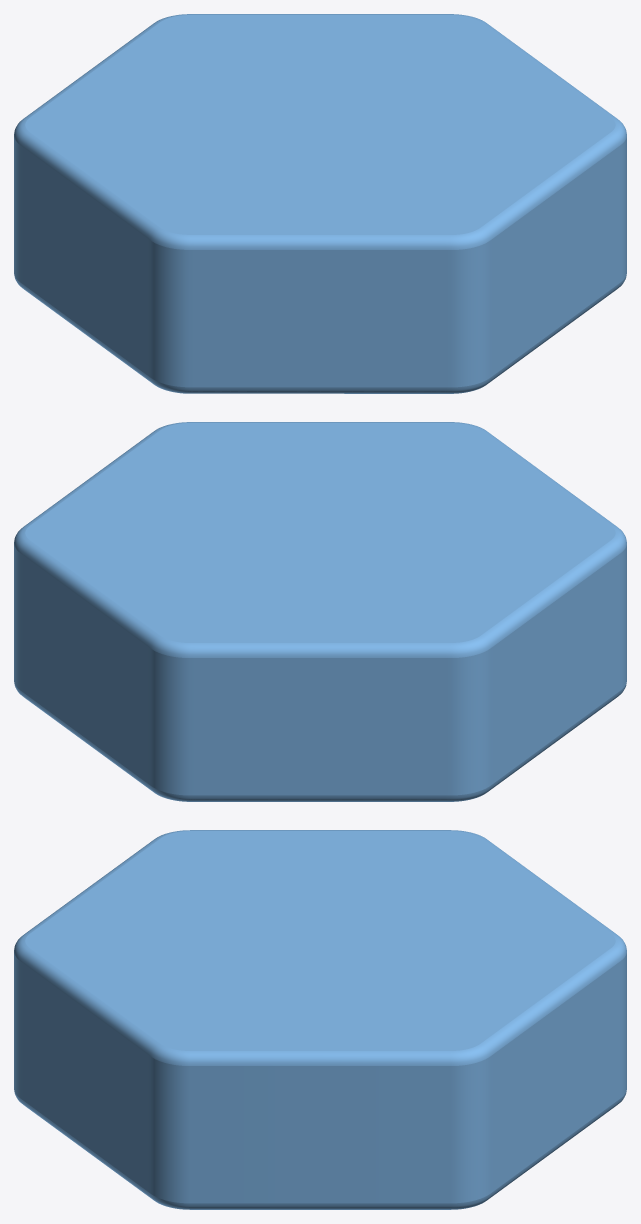
3 renders of one model, top to bottom at view 1: azimuth 30°, elevation 25°; view 2: azimuth 150°, elevation 25°; view 3: azimuth 270°, elevation 25°, orthographic.
Parts seen in each view (by area): view 1: Curve.006; view 2: Curve.006; view 3: Curve.006.
Part boxes in pixels (<box>): Curve.006: <box>14,14,626,393</box>; Curve.006: <box>14,422,626,801</box>; Curve.006: <box>14,830,626,1209</box>.
Bounding box in the file's own units: 1.7 × 0.546 × 1.92.
